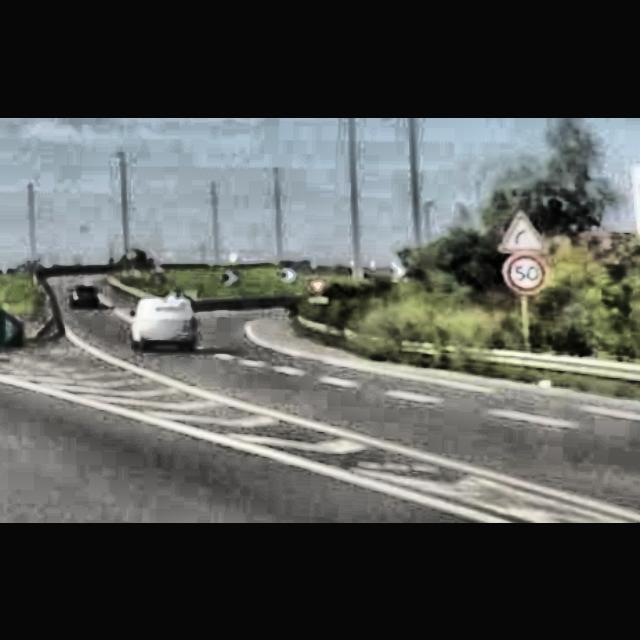speed_50: (506, 252, 546, 292)
